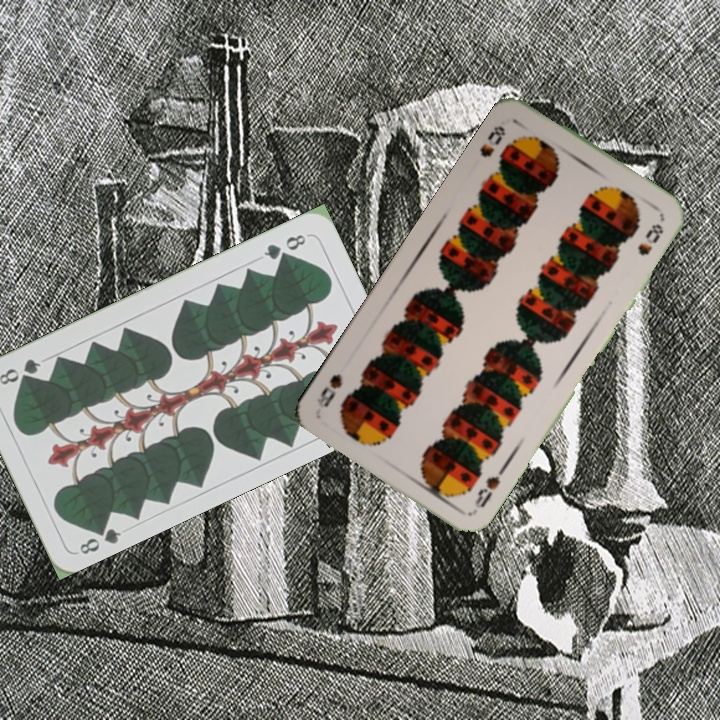G8: (75, 519, 124, 557), (259, 230, 309, 262)
S8: (470, 461, 510, 511), (475, 121, 509, 160)
